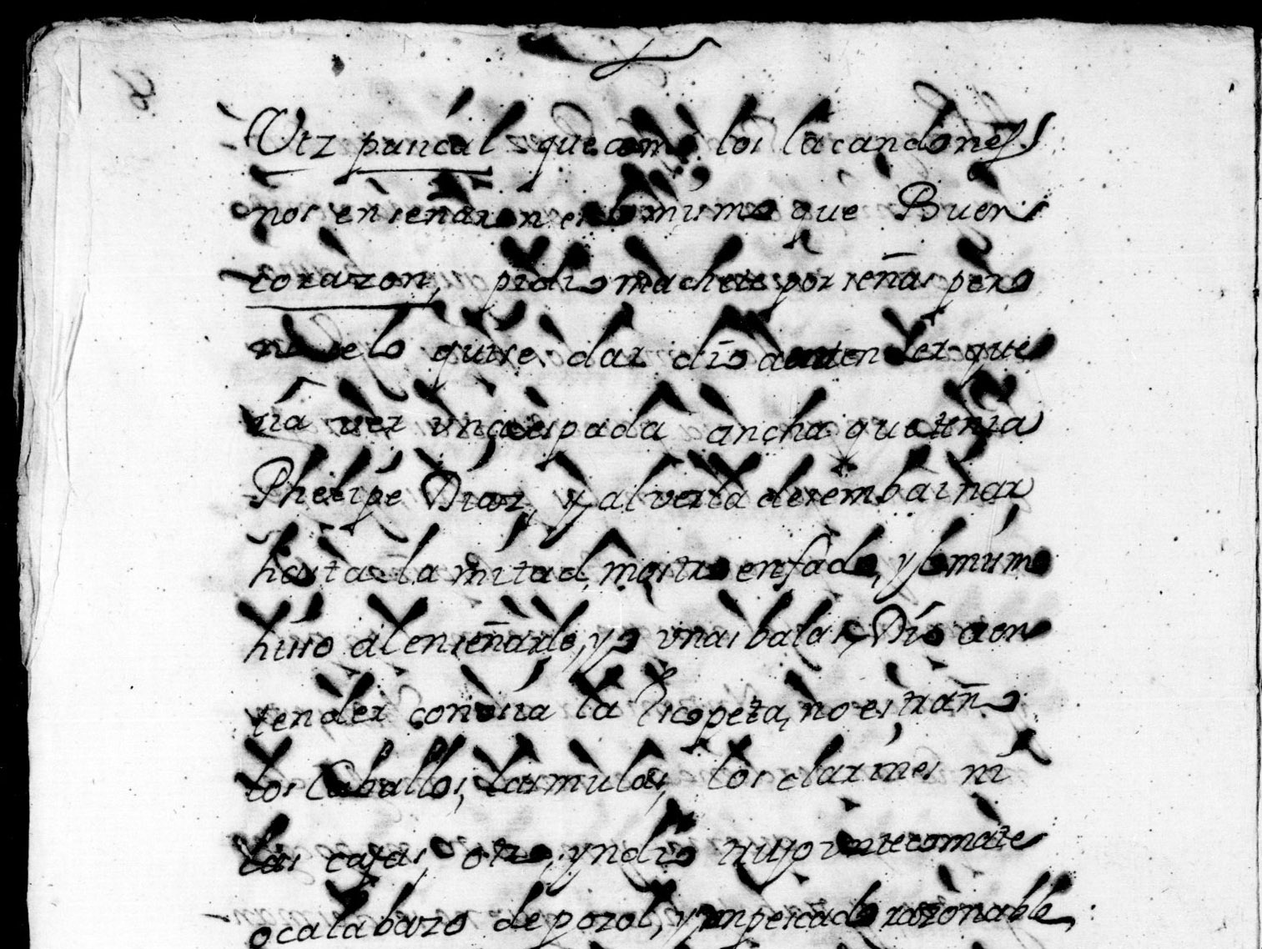lacandon: (782, 97, 1057, 181)
